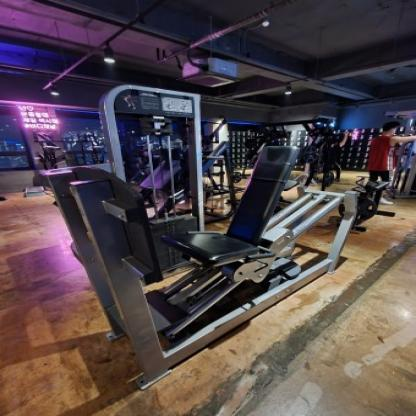leg press: (41, 79, 392, 384)
